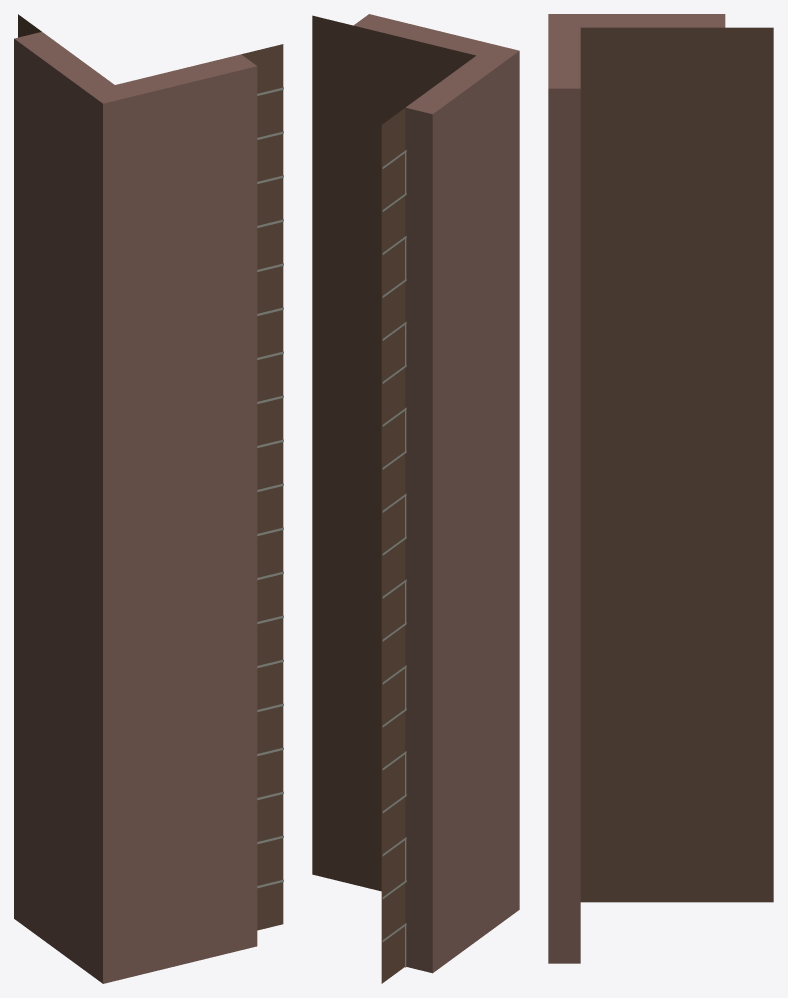
File: mid-c1_close.fbx
The picture shows the model from 3 angles, left to right: view 1: azimuth 30°, elevation 25°; view 2: azimuth 150°, elevation 25°; view 3: azimuth 270°, elevation 25°; orthographic projection. The views are drawn at different scales.
Visible parts, largest first — view 1: a2001/800/mid-c1_close; view 2: a2001/800/mid-c1_close; view 3: a2001/800/mid-c1_close.
Part boxes in pixels (bbox=[...]): a2001/800/mid-c1_close: bbox=[14, 14, 283, 983]; a2001/800/mid-c1_close: bbox=[312, 14, 519, 983]; a2001/800/mid-c1_close: bbox=[548, 14, 773, 963].
Bounding box in the file's own units: 0.7 × 3 × 0.7.
